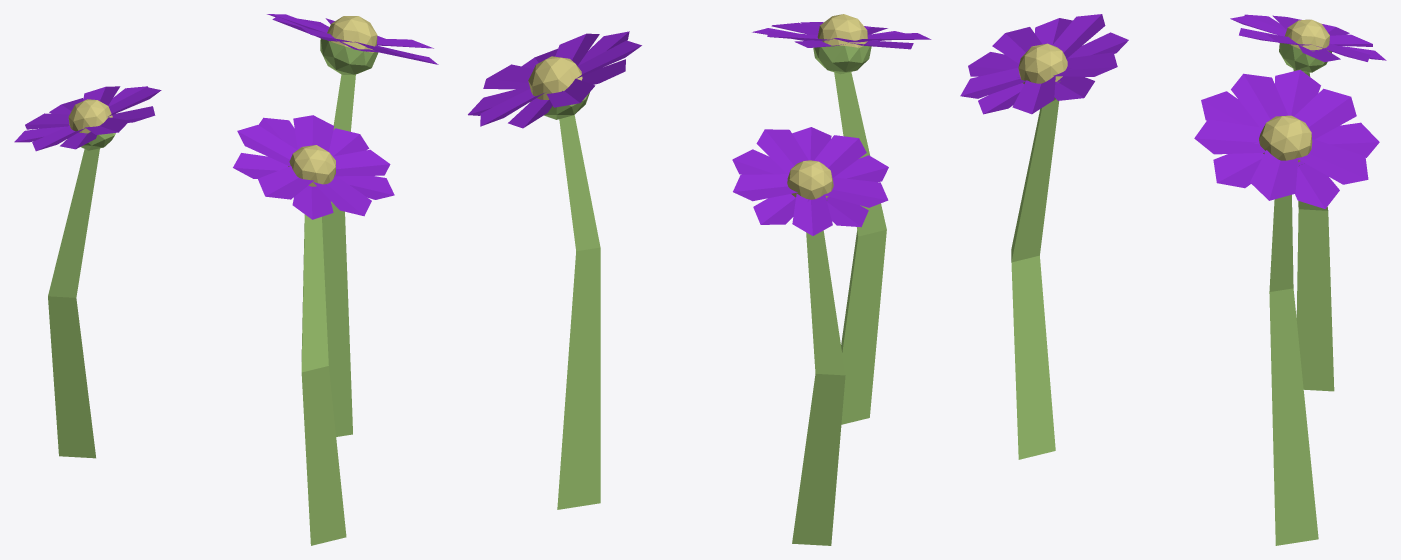
Rendered from flower03.fbx.
3 renders of one model, left to right at view 1: azimuth 30°, elevation 25°; view 2: azimuth 150°, elevation 25°; view 3: azimuth 270°, elevation 25°, orthographic. The views are drawn at different scales.
Visible parts, largest first — view 1: Flower03; view 2: Flower03; view 3: Flower03.
Part boxes in pixels (x1,y1,x2,y2): Flower03: [14, 14, 438, 545]; Flower03: [468, 14, 931, 545]; Flower03: [960, 14, 1386, 545].
Size of the model in its own units: 16.07 by 16.73 by 14.6.
